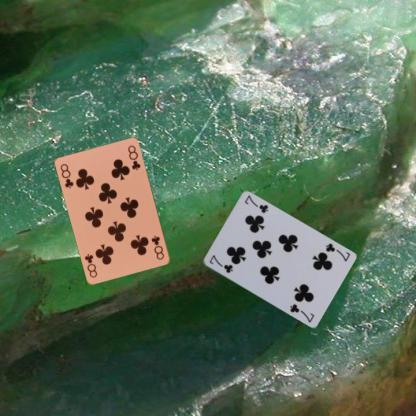7c: (322, 240, 352, 263), (206, 252, 234, 274)
8c: (57, 161, 76, 190), (149, 232, 166, 262)
